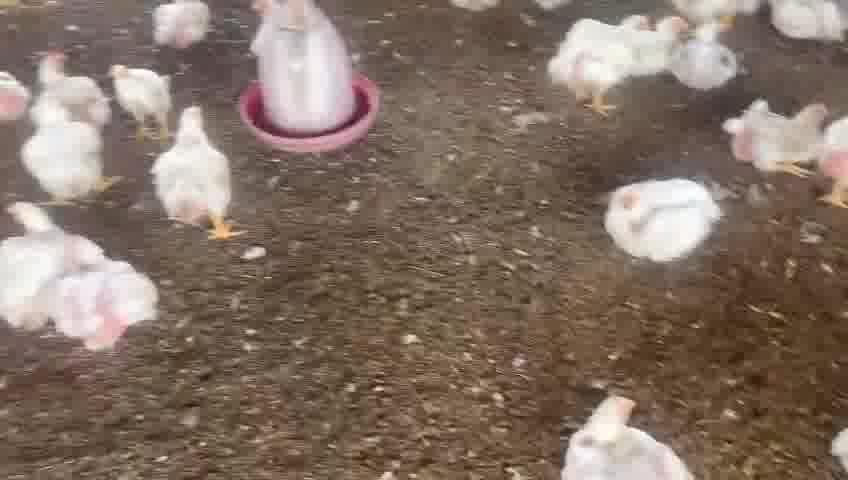AbNormal: (602, 178, 716, 260), (726, 97, 830, 174)
Normal: (552, 15, 686, 117), (153, 107, 241, 239), (24, 98, 116, 205), (107, 64, 174, 140)
